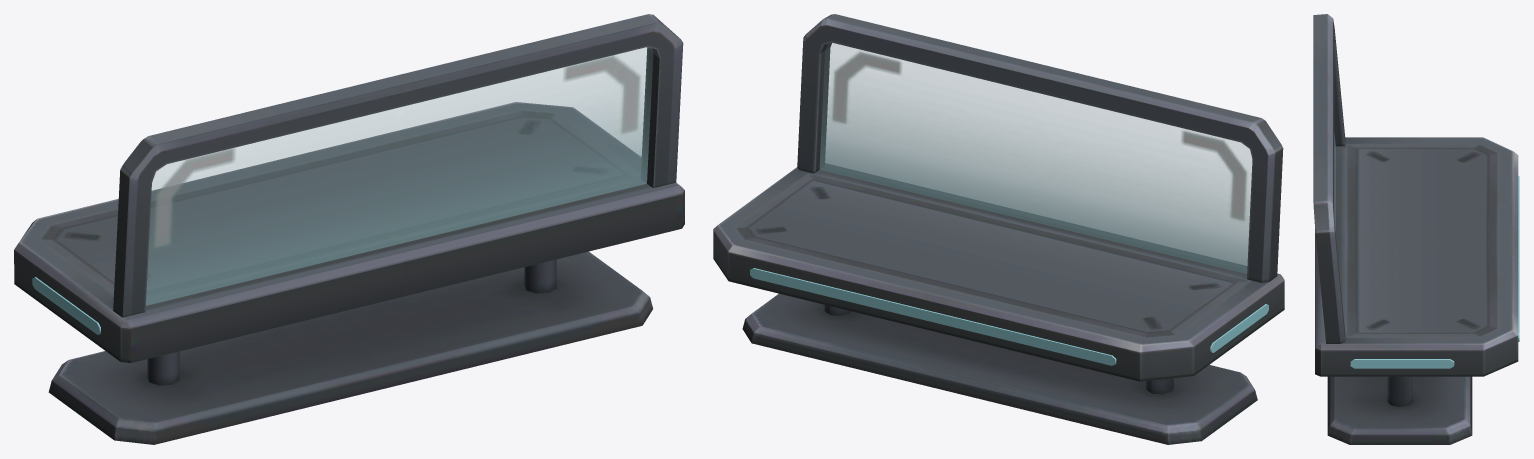
File: furn_sef2022_sofa.gltf
3 renders of one model, left to right at view 1: azimuth 30°, elevation 25°; view 2: azimuth 150°, elevation 25°; view 3: azimuth 270°, elevation 25°, orthographic. The views are drawn at different scales.
Visible parts, largest first — view 1: sef2022_sofa; view 2: sef2022_sofa; view 3: sef2022_sofa.
Part boxes in pixels (bbox=[...]): sef2022_sofa: bbox=[14, 14, 684, 444]; sef2022_sofa: bbox=[713, 14, 1284, 444]; sef2022_sofa: bbox=[1313, 14, 1519, 444].
Bounding box in the file's own units: 1.02 × 0.5307 × 0.4183.
2 materials, 2 textured.
